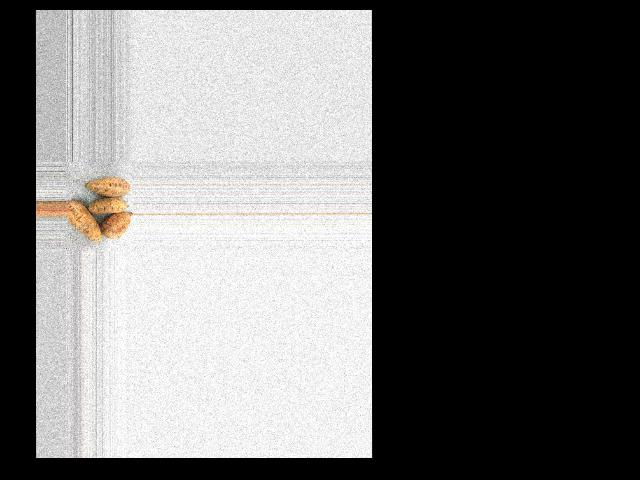sweet_potato: (65, 195, 101, 246)
